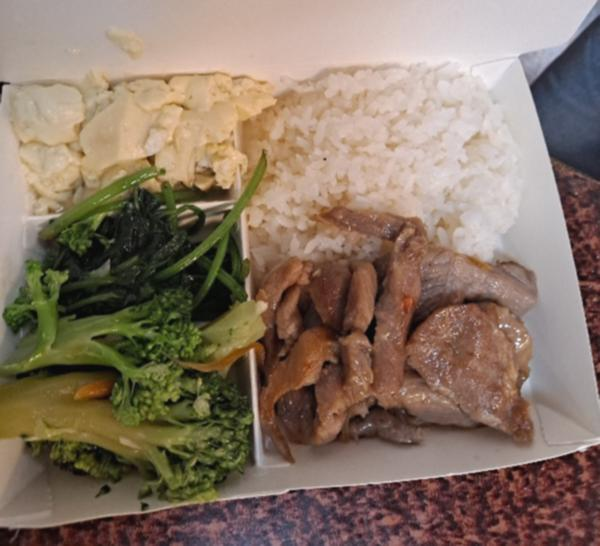big grilled chicken leg: (0, 42, 600, 536)
big herbal chicken leg: (241, 57, 518, 260)
braised fish fillet: (0, 286, 260, 503), (7, 73, 258, 209), (18, 182, 252, 314)
braised pork: (258, 232, 538, 456)
